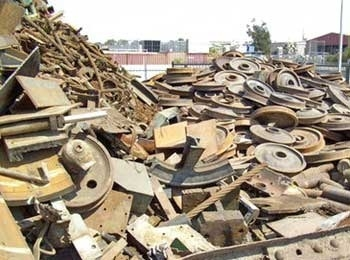metal: (33, 129, 122, 217), (145, 131, 240, 197), (250, 136, 310, 182), (247, 119, 301, 153), (247, 101, 307, 131), (287, 122, 325, 160), (263, 85, 314, 113), (239, 74, 282, 105), (210, 64, 253, 93), (162, 63, 202, 87), (269, 67, 308, 91)
